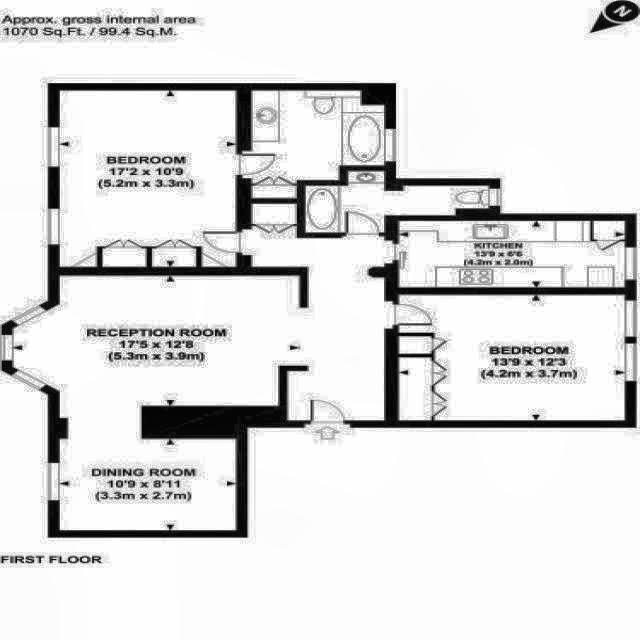room: (12, 226, 394, 531), (60, 90, 235, 267), (398, 295, 625, 421), (242, 91, 384, 199), (398, 221, 624, 288), (305, 170, 490, 233)
